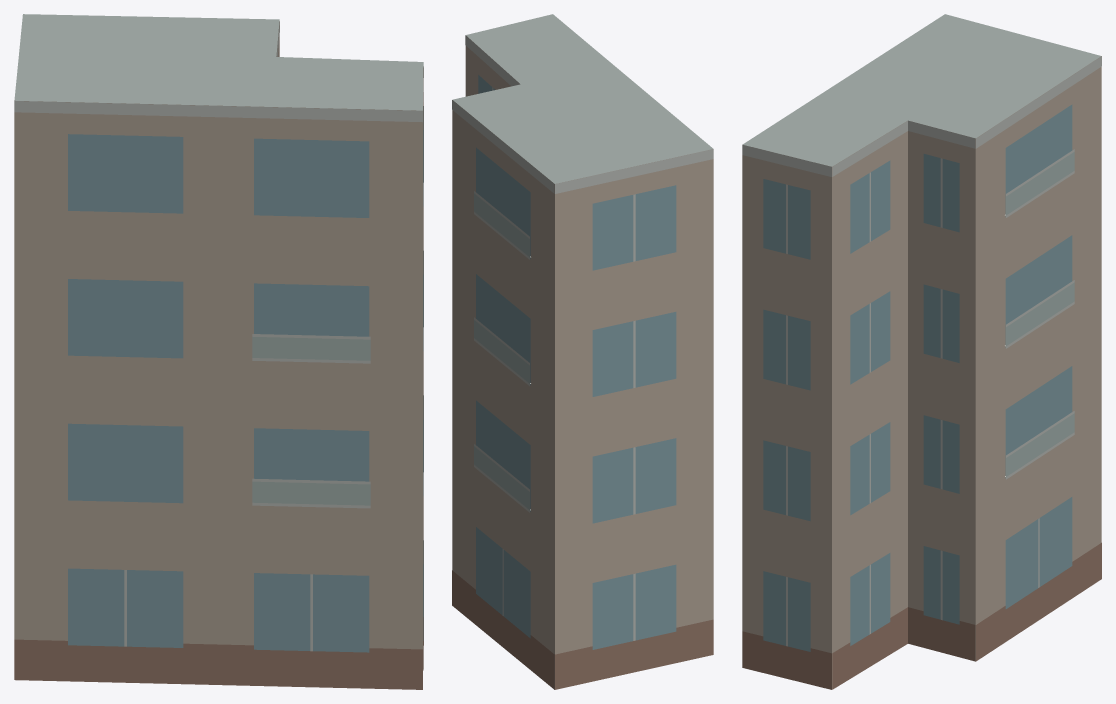
File: survey-upis-32628937.glb
The picture shows the model from 3 angles, left to right: view 1: azimuth 30°, elevation 25°; view 2: azimuth 150°, elevation 25°; view 3: azimuth 270°, elevation 25°; orthographic projection. The views are drawn at different scales.
Parts seen in each view (by area): view 1: survey-upis-32628937.tmp; view 2: survey-upis-32628937.tmp; view 3: survey-upis-32628937.tmp.
Boxes of the visible parts, bbox=[...] form: survey-upis-32628937.tmp: bbox=[14, 14, 423, 689]; survey-upis-32628937.tmp: bbox=[452, 14, 713, 689]; survey-upis-32628937.tmp: bbox=[742, 14, 1101, 689].
Size of the model in its own units: 7.65 by 12.2 by 7.6.
